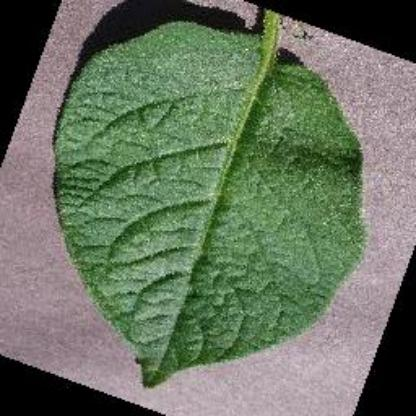Healthy-plant: (32, 8, 383, 396)
